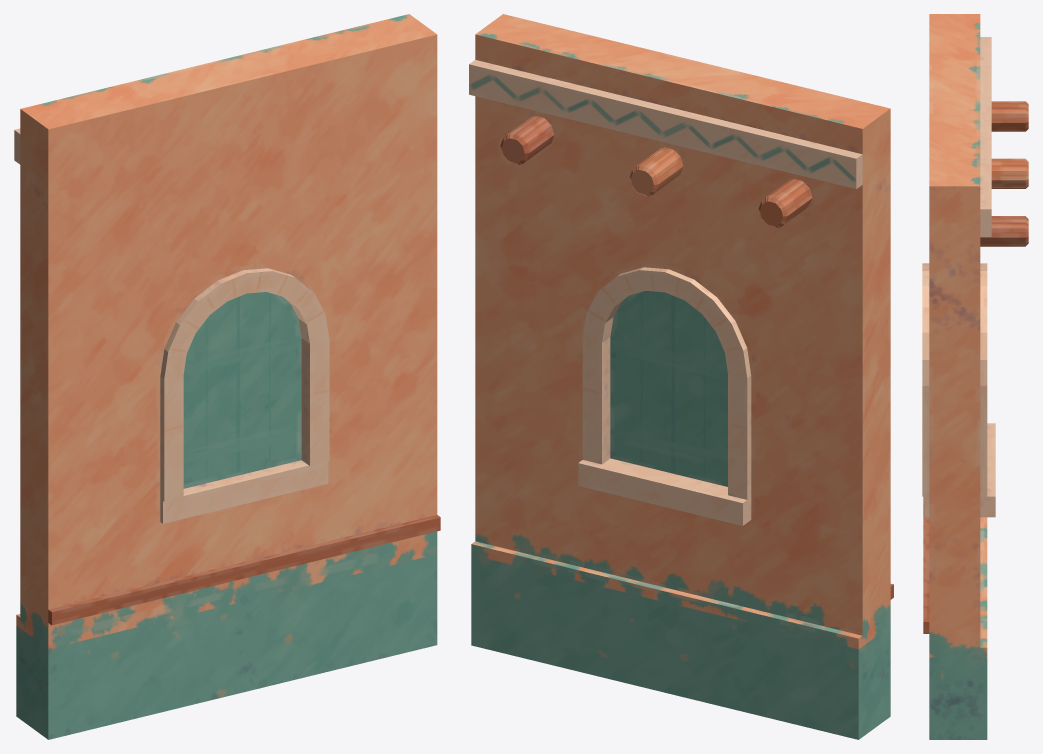
File: wall2_shutter.bundle.fbx
The picture shows the model from 3 angles, left to right: view 1: azimuth 30°, elevation 25°; view 2: azimuth 150°, elevation 25°; view 3: azimuth 270°, elevation 25°; orthographic projection. The views are drawn at different scales.
Visible parts, largest first — view 1: wall2_shutter, wall2_shutter_s00, wall2_shutter_s03, wall2_shutter_s02, wall2_shutter_s04, wall2_shutter_s01, wall2_shutter_s05, wall2_shutter_s09, wall2_shutter_s08, wall2_shutter_s06, wall2_shutter_s10, wall2_shutter_s11 (+1 smaller); view 2: wall2_shutter, wall2_shutter_s03, wall2_shutter_s01, wall2_shutter_s00, wall2_shutter_s04, wall2_shutter_s11, wall2_shutter_s08, wall2_shutter_s09, wall2_shutter_s05, wall2_shutter_s06, wall2_shutter_s07, wall2_shutter_s10 (+2 smaller); view 3: wall2_shutter, wall2_shutter_s01, wall2_shutter_s00, wall2_shutter_s03, wall2_shutter_s09, wall2_shutter_s10, wall2_shutter_s04, wall2_shutter_low.
Part boxes in pixels (left/top/right/bottom): wall2_shutter: left=14, top=14, right=440, bottom=739; wall2_shutter_s00: left=263, top=14, right=437, bottom=328; wall2_shutter_s03: left=217, top=219, right=437, bottom=435; wall2_shutter_s02: left=16, top=588, right=258, bottom=739; wall2_shutter_s04: left=136, top=425, right=367, bottom=653; wall2_shutter_s01: left=247, top=400, right=440, bottom=688; wall2_shutter_s05: left=16, top=391, right=140, bottom=633; wall2_shutter_s09: left=168, top=22, right=387, bottom=219; wall2_shutter_s08: left=20, top=243, right=239, bottom=428; wall2_shutter_s06: left=20, top=112, right=260, bottom=259; wall2_shutter_s10: left=14, top=75, right=212, bottom=195; wall2_shutter_s11: left=20, top=176, right=164, bottom=390; wall2_shutter: left=469, top=14, right=893, bottom=739; wall2_shutter_s03: left=475, top=227, right=692, bottom=439; wall2_shutter_s01: left=471, top=393, right=667, bottom=687; wall2_shutter_s00: left=469, top=16, right=628, bottom=319; wall2_shutter_s04: left=562, top=427, right=757, bottom=635; wall2_shutter_s11: left=728, top=193, right=890, bottom=401; wall2_shutter_s08: left=669, top=241, right=890, bottom=432; wall2_shutter_s09: left=490, top=26, right=725, bottom=233; wall2_shutter_s05: left=742, top=403, right=892, bottom=639; wall2_shutter_s06: left=673, top=117, right=890, bottom=258; wall2_shutter_s07: left=667, top=381, right=807, bottom=533; wall2_shutter_s10: left=721, top=69, right=890, bottom=188; wall2_shutter: left=922, top=14, right=1028, bottom=739; wall2_shutter_s01: left=923, top=512, right=994, bottom=739; wall2_shutter_s00: left=929, top=168, right=991, bottom=451; wall2_shutter_s03: left=922, top=269, right=987, bottom=515; wall2_shutter_s09: left=929, top=77, right=991, bottom=193; wall2_shutter_s10: left=929, top=14, right=991, bottom=88; wall2_shutter_s04: left=923, top=442, right=995, bottom=564; wall2_shutter_low: left=980, top=102, right=1028, bottom=246.
Size of the model in its own units: 8 by 12 by 2.09.
1 material, 1 textured.
